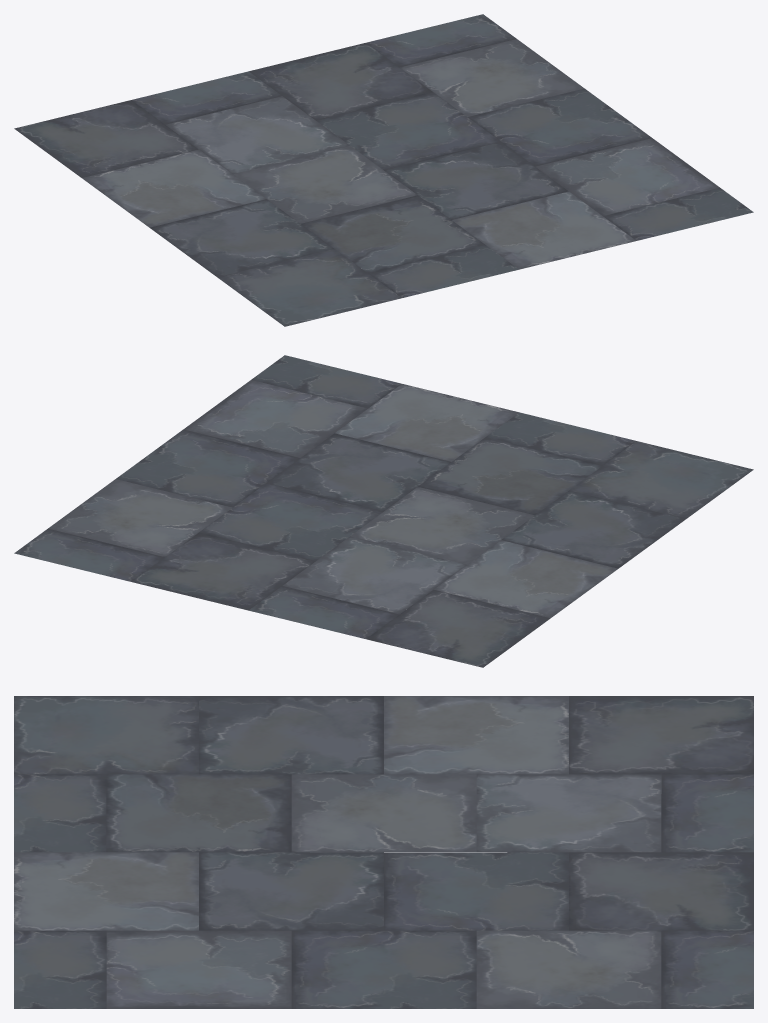
The model's file is Castle Ground X Mix 4x4.fbx.
3 renders of one model, top to bottom at view 1: azimuth 30°, elevation 25°; view 2: azimuth 150°, elevation 25°; view 3: azimuth 270°, elevation 25°, orthographic. The views are drawn at different scales.
Visible parts, largest first — view 1: Castle Ground X Mix 4x4; view 2: Castle Ground X Mix 4x4; view 3: Castle Ground X Mix 4x4.
Boxes of the visible parts, <box> form: Castle Ground X Mix 4x4: <box>14,14,753,326</box>; Castle Ground X Mix 4x4: <box>14,355,753,667</box>; Castle Ground X Mix 4x4: <box>14,696,753,1008</box>.
Size of the model in its own units: 3 by 9.95e-07 by 3.
